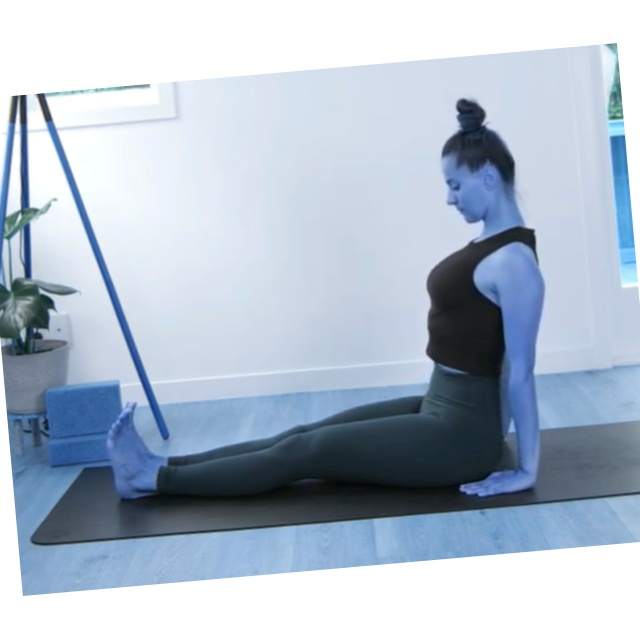Staff_Pose: (102, 121, 553, 507)
